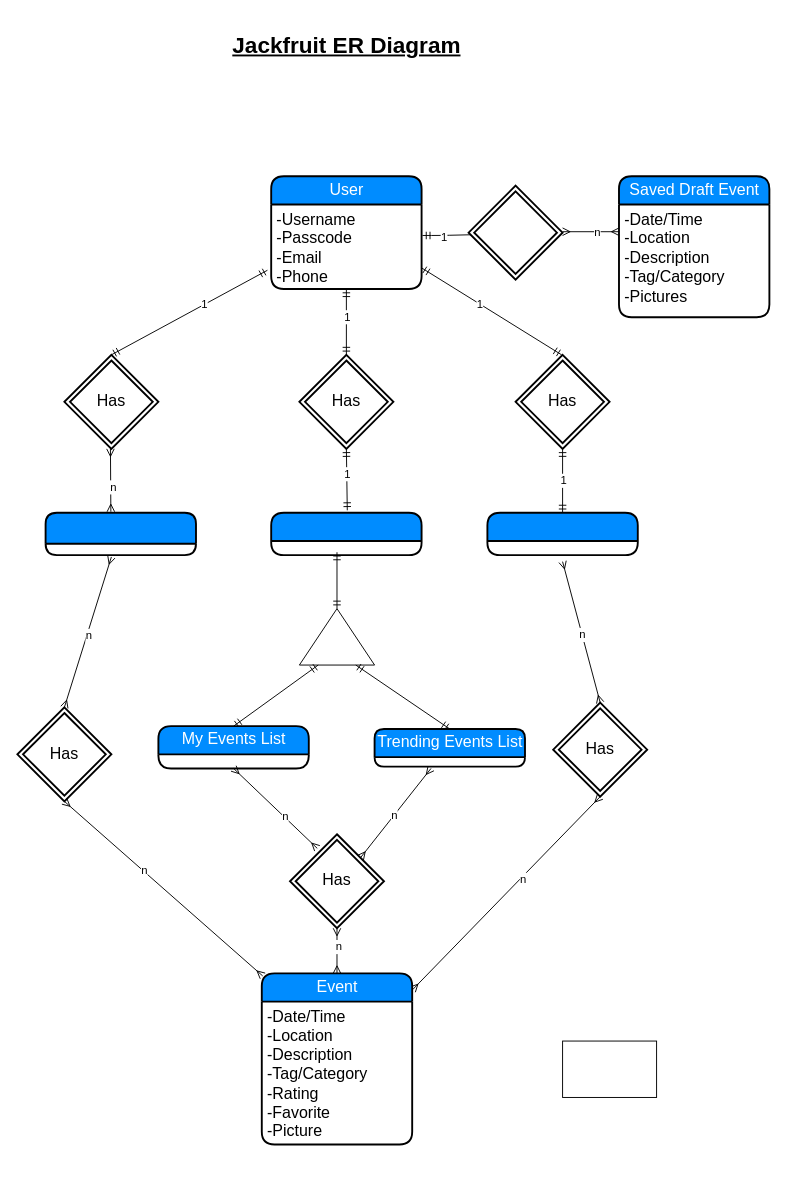
This 786x1177 diagram has some shape labels left out. The centre of each missing label's shape, as x and y in pixels:
All Events List: the point at 120,533
all relationships are referencing: the point at 609,1068
Author: the point at 515,232
isA: the point at 336,636
List Feed: the point at 346,533
Search Results: the point at 562,533
